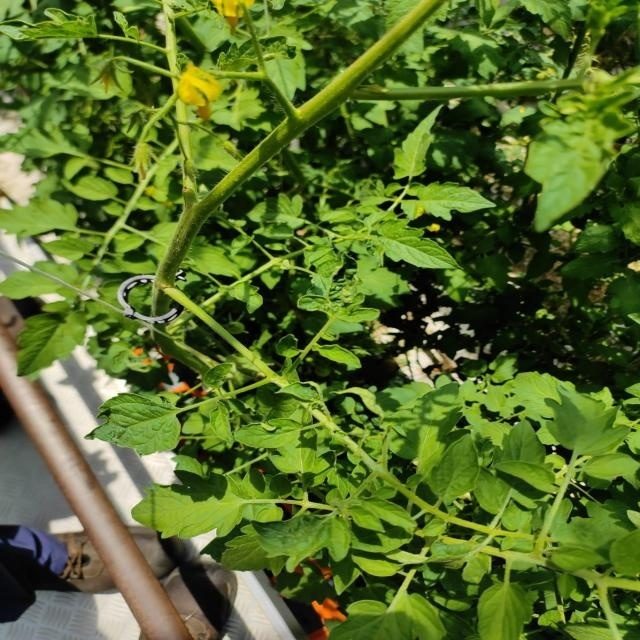T_L_H: (133, 473, 249, 539), (88, 395, 185, 455), (375, 221, 459, 270)
T_S_H: (180, 1, 445, 245), (19, 312, 86, 376)
